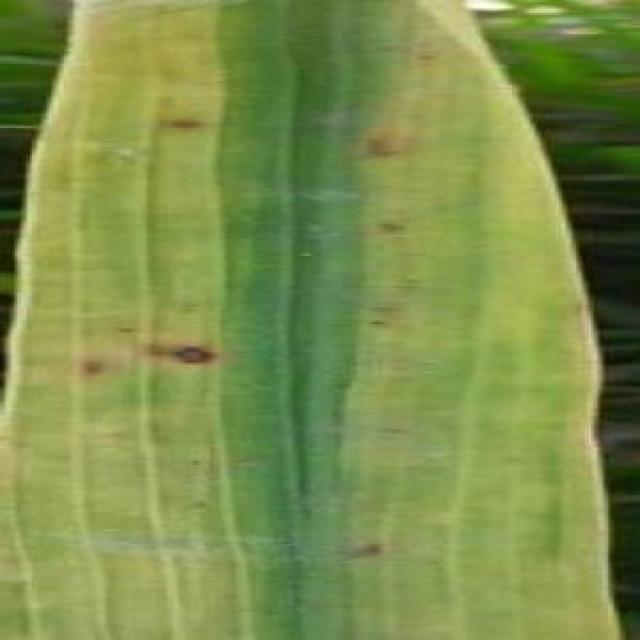Brown_Spot: (163, 333, 236, 379), (159, 104, 218, 140), (368, 209, 422, 248), (365, 307, 396, 342)
